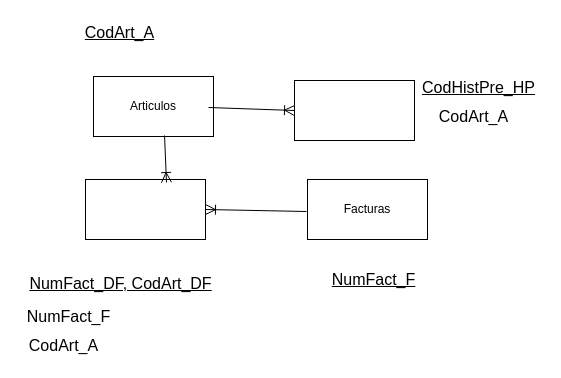
This 561x378 diagram has some shape labels left out. Here are the shapes that lost their labels. From the top down, the centre of each, then its label:
At point (354, 110): "HistoricoPrecios".
At point (145, 209): "DetalleDeFacturas".
